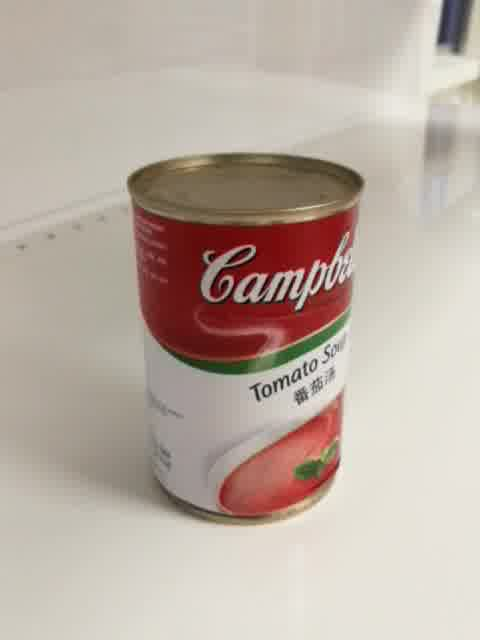tomatosoup: (125, 150, 367, 531)
